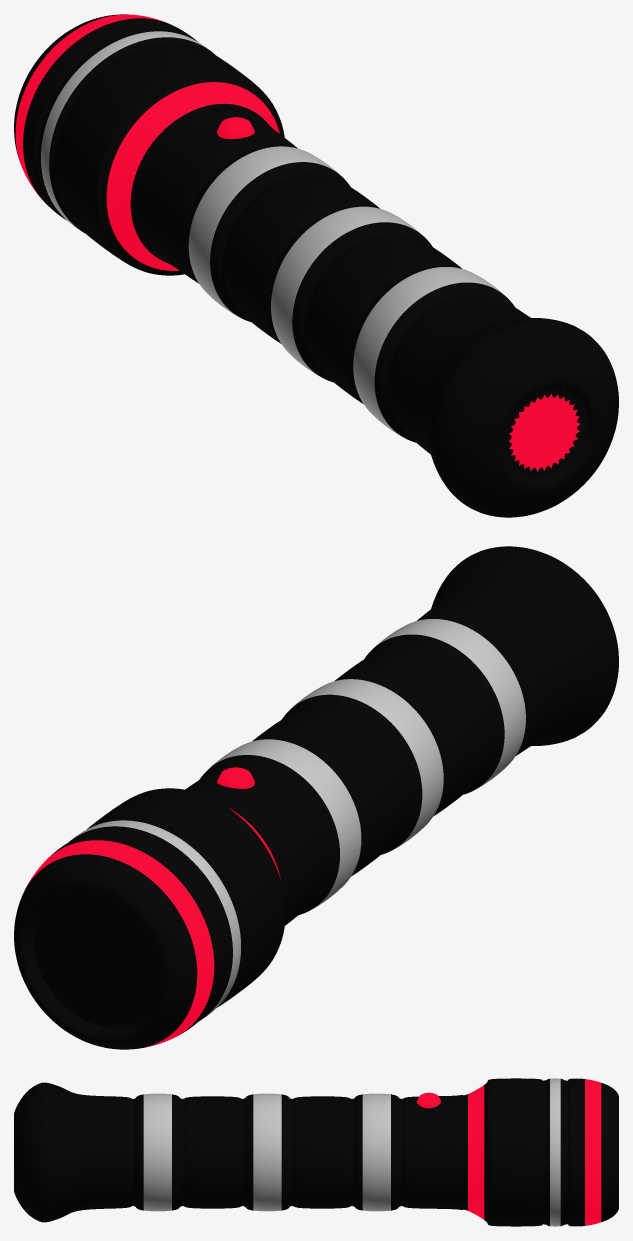
File: linterna.fbx
3 views of the same model, one above another, from view 1: azimuth 30°, elevation 25°; view 2: azimuth 150°, elevation 25°; view 3: azimuth 270°, elevation 25° (orthographic). The views are drawn at different scales.
Visible parts, largest first — view 1: LANTERN, BOTON; view 2: LANTERN, EMISSION; view 3: LANTERN, BOTON.
Part boxes in pixels (x1,y1,x2,y2): LANTERN: (14, 14, 618, 517); BOTON: (217, 117, 254, 139); LANTERN: (14, 546, 618, 1049); EMISSION: (33, 886, 163, 1028); LANTERN: (14, 1078, 618, 1226); BOTON: (417, 1092, 440, 1108).
Bounding box in the file's own units: 198 × 198 × 811.
